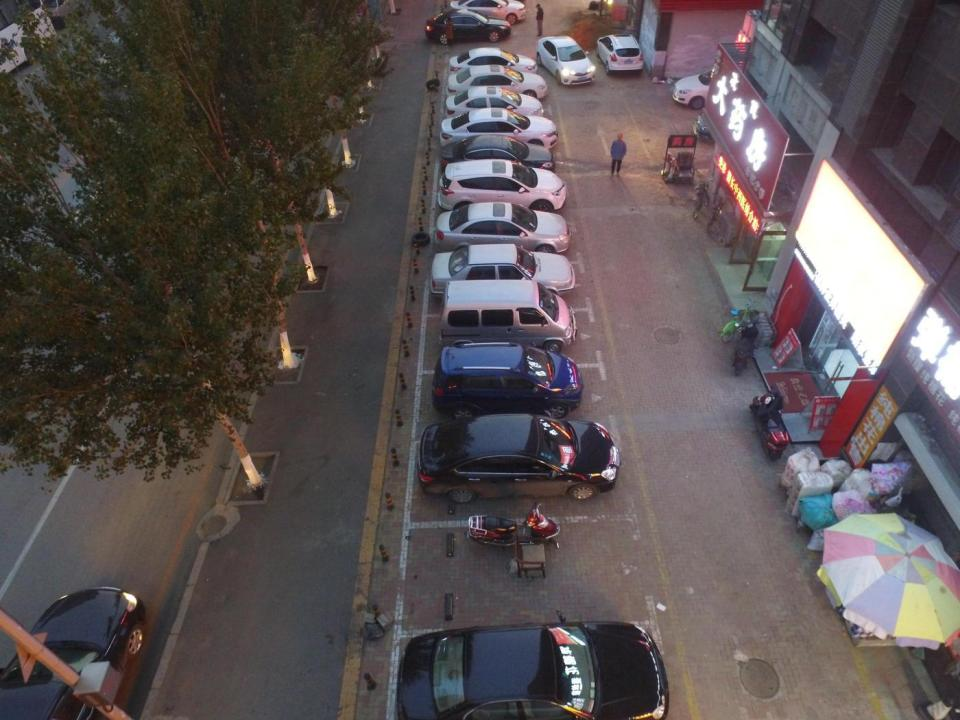car: (397, 611, 672, 719), (0, 584, 156, 716), (420, 411, 618, 500), (433, 344, 582, 418), (432, 248, 577, 300), (438, 198, 570, 253), (439, 162, 566, 210), (444, 110, 557, 154), (440, 135, 554, 174), (672, 66, 765, 110), (536, 34, 595, 88), (447, 67, 545, 97), (446, 88, 540, 119), (429, 11, 514, 44), (597, 27, 645, 77), (445, 51, 536, 75), (445, 1, 528, 22)
van: (440, 278, 580, 348)
